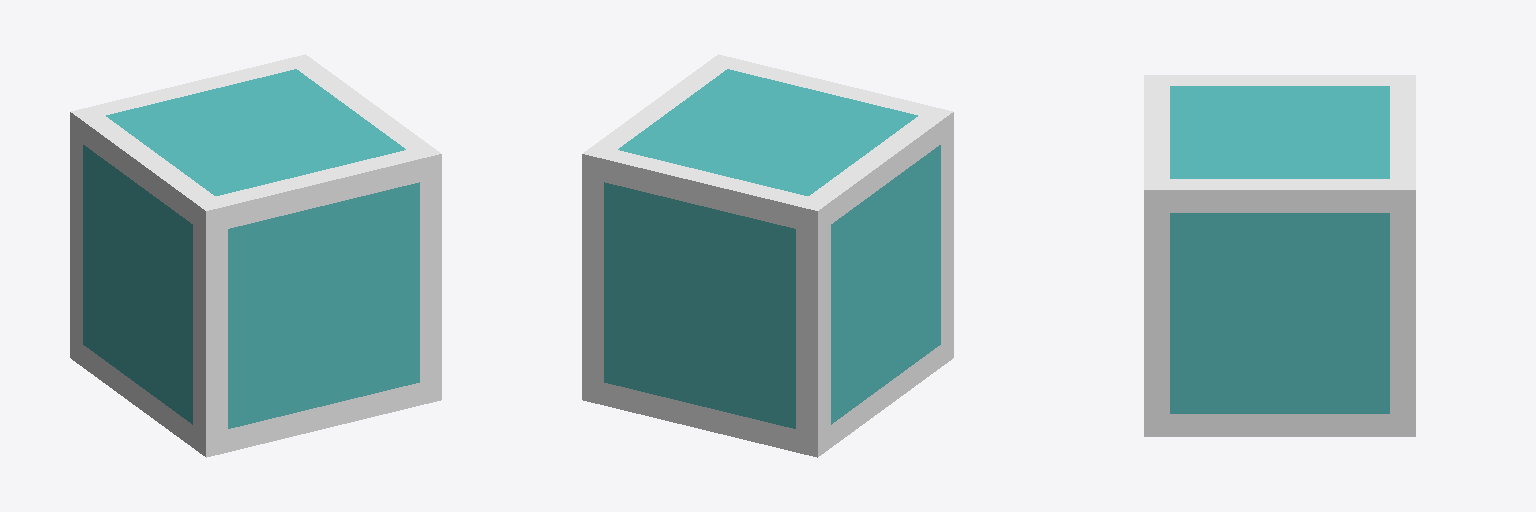
3 renders of one model, left to right at view 1: azimuth 30°, elevation 25°; view 2: azimuth 150°, elevation 25°; view 3: azimuth 270°, elevation 25°, orthographic.
Visible parts, largest first — view 1: Box001; view 2: Box001; view 3: Box001.
Boxes of the visible parts, box(x1,y1,x2,y2) form: Box001: box(70, 54, 441, 457); Box001: box(582, 54, 953, 457); Box001: box(1144, 75, 1415, 436).
Size of the model in its own units: 1024 by 1024 by 1024.
1 materials, 1 textured.